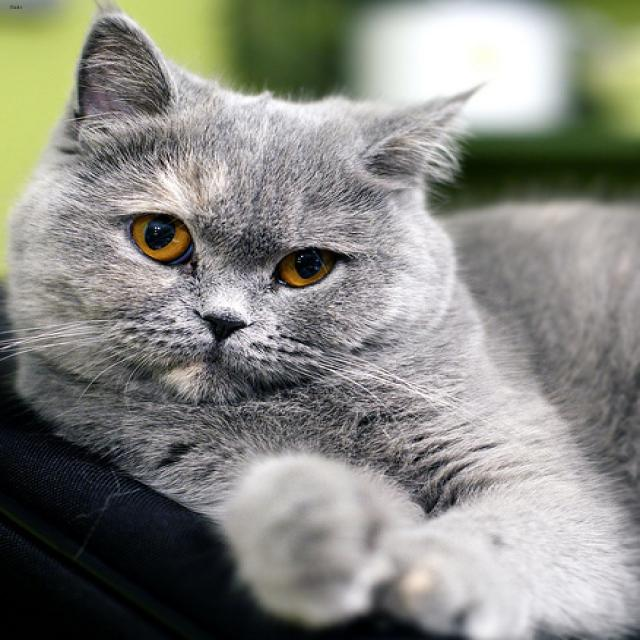cat: (32, 10, 474, 402)
